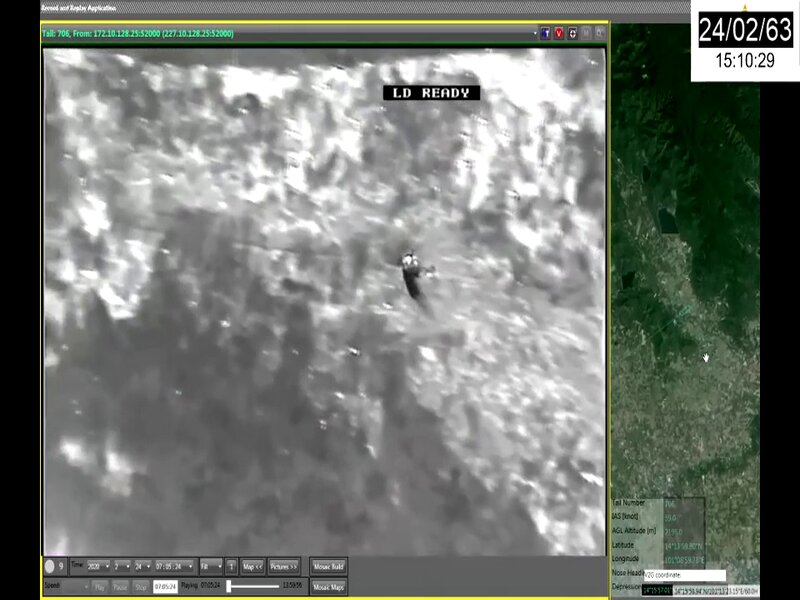Fire: (482, 51, 604, 256)
